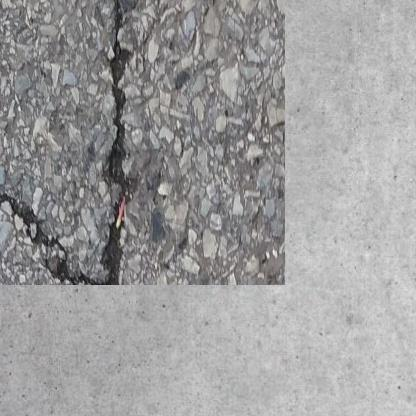Cracks: (0, 0, 137, 263)
